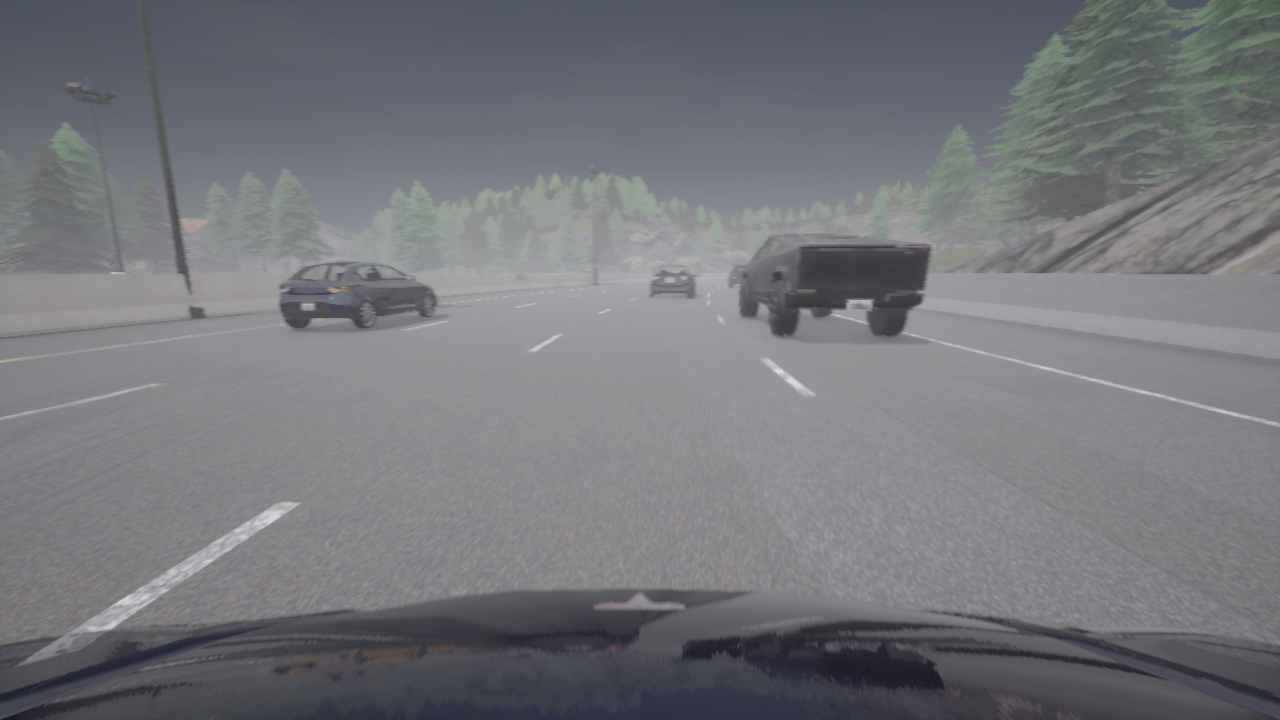cyclist: (0, 588, 1279, 719), (738, 235, 931, 337), (278, 262, 438, 329), (649, 264, 695, 297), (729, 266, 744, 287)
